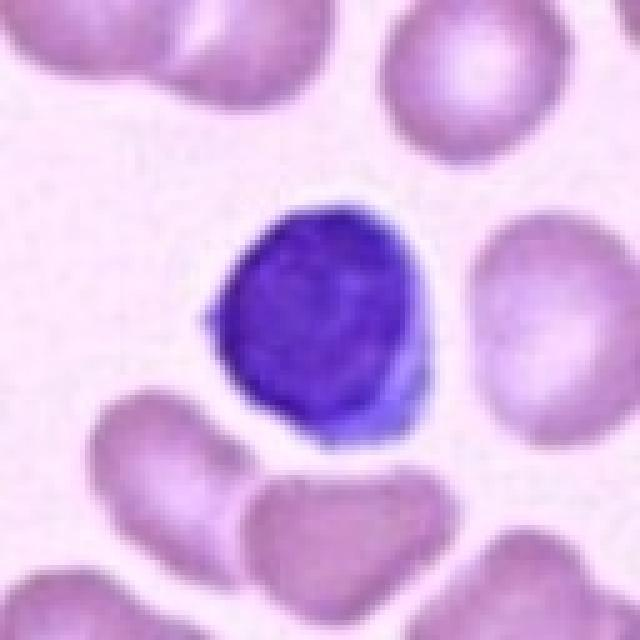lympho: (207, 187, 445, 461)
